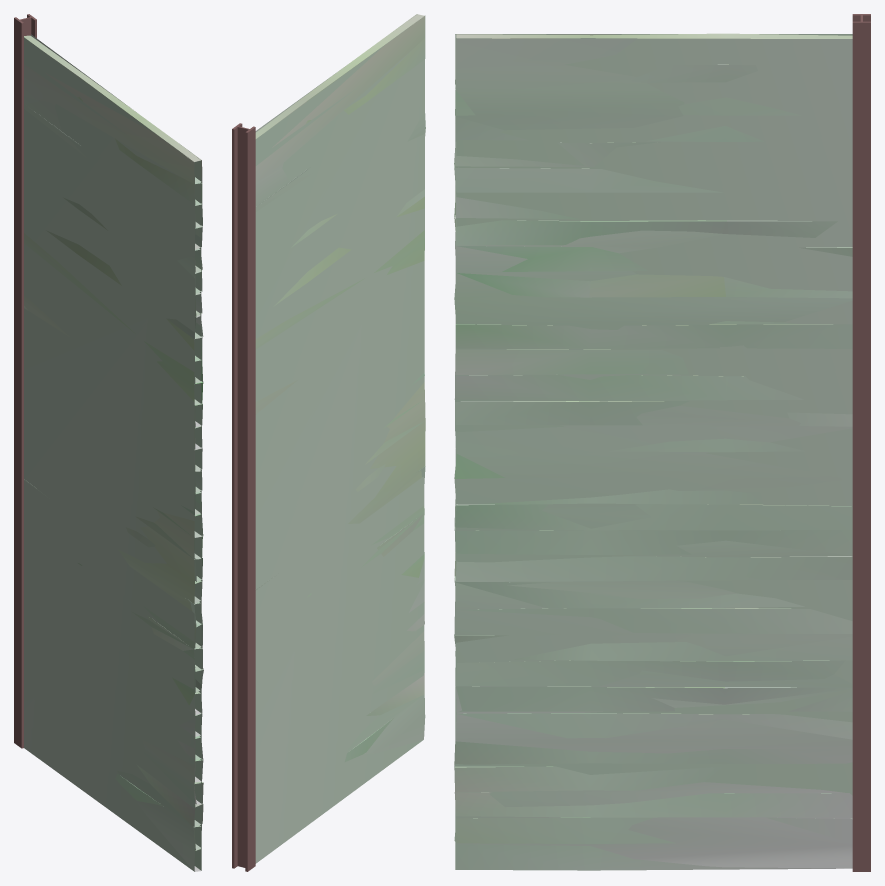
Rendered from wall_wood1.dae.
3 renders of one model, left to right at view 1: azimuth 30°, elevation 25°; view 2: azimuth 150°, elevation 25°; view 3: azimuth 270°, elevation 25°, orthographic. The views are drawn at different scales.
Parts seen in each view (by area): view 1: wall_wood1_a050, wall_wood1_a100, wall_wood1_a200; view 2: wall_wood1_a050, wall_wood1_a100, wall_wood1_a200; view 3: wall_wood1_a200, wall_wood1_a100, wall_wood1_a050.
Part boxes in pixels (x1=…): wall_wood1_a050: x1=24, y1=34, x2=201, y2=871; wall_wood1_a100: x1=14, y1=15, x2=203, y2=871; wall_wood1_a200: x1=14, y1=14, x2=203, y2=871; wall_wood1_a050: x1=255, y1=15, x2=425, y2=863; wall_wood1_a100: x1=234, y1=16, x2=425, y2=869; wall_wood1_a200: x1=232, y1=14, x2=425, y2=871; wall_wood1_a200: x1=454, y1=14, x2=870, y2=871; wall_wood1_a100: x1=454, y1=34, x2=852, y2=868; wall_wood1_a050: x1=455, y1=34, x2=852, y2=863.
Bounding box in the file's own units: 0.1514 × 3.04 × 6.85.
